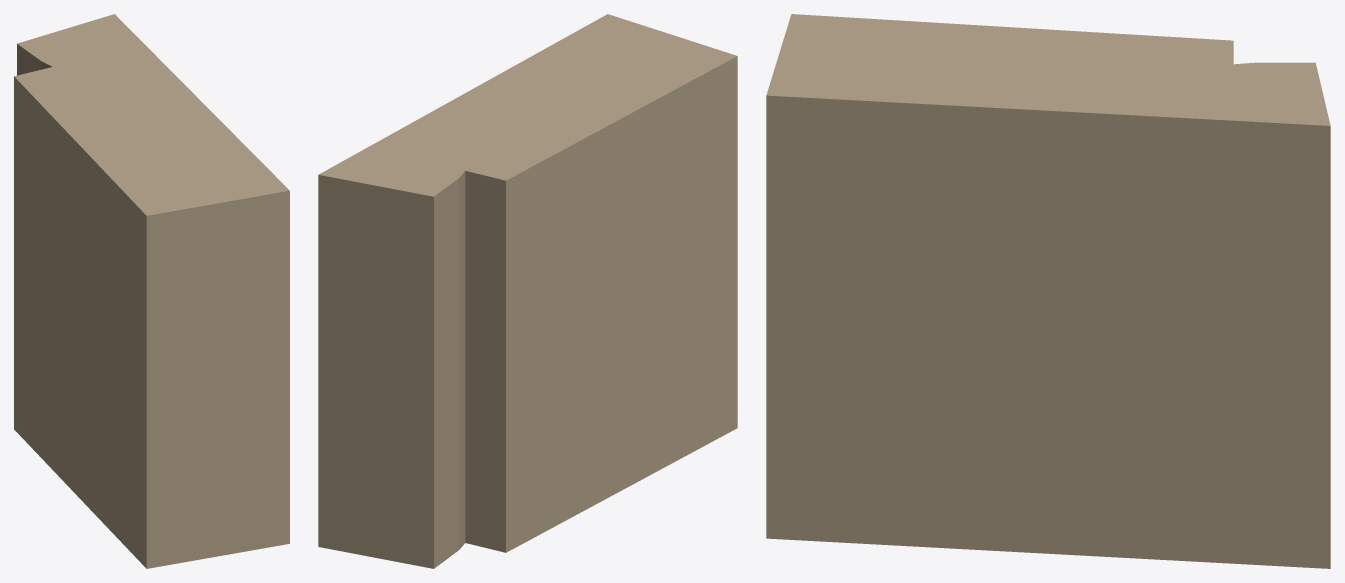
The model's file is bld_98821433.dae.
3 renders of one model, left to right at view 1: azimuth 30°, elevation 25°; view 2: azimuth 150°, elevation 25°; view 3: azimuth 270°, elevation 25°, orthographic. The views are drawn at different scales.
Visible parts, largest first — view 1: Black Lobster; view 2: Black Lobster; view 3: Black Lobster.
Boxes of the visible parts, x1,y1,x2,y2 form: Black Lobster: [14, 14, 289, 568]; Black Lobster: [318, 14, 737, 568]; Black Lobster: [766, 14, 1330, 568].
Size of the model in its own units: 4.34 by 9.24 by 8.
